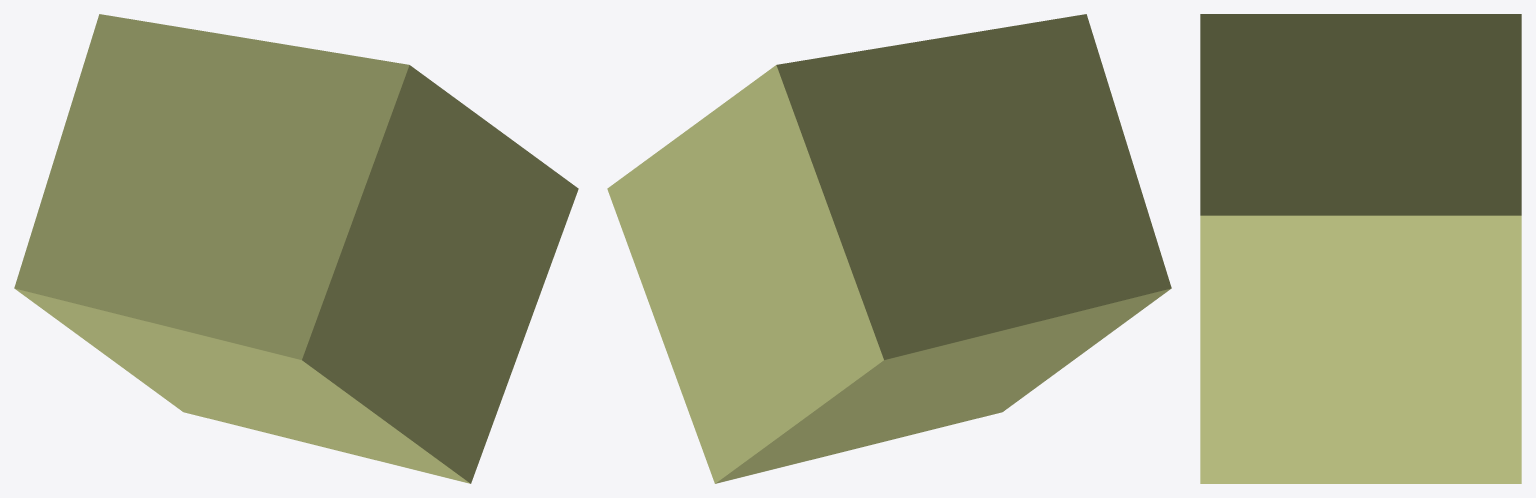
3 renders of one model, left to right at view 1: azimuth 30°, elevation 25°; view 2: azimuth 150°, elevation 25°; view 3: azimuth 270°, elevation 25°, orthographic. The views are drawn at different scales.
Parts seen in each view (by area): view 1: 0_1_0_0_1_3_1_1_3_2_3; view 2: 0_1_0_0_1_3_1_1_3_2_3; view 3: 0_1_0_0_1_3_1_1_3_2_3.
Boxes of the visible parts, x1,y1,x2,y2 form: 0_1_0_0_1_3_1_1_3_2_3: [14, 14, 578, 483]; 0_1_0_0_1_3_1_1_3_2_3: [607, 14, 1171, 483]; 0_1_0_0_1_3_1_1_3_2_3: [1200, 14, 1521, 483].
Size of the model in its own units: 8.1 by 7.74 by 6.
